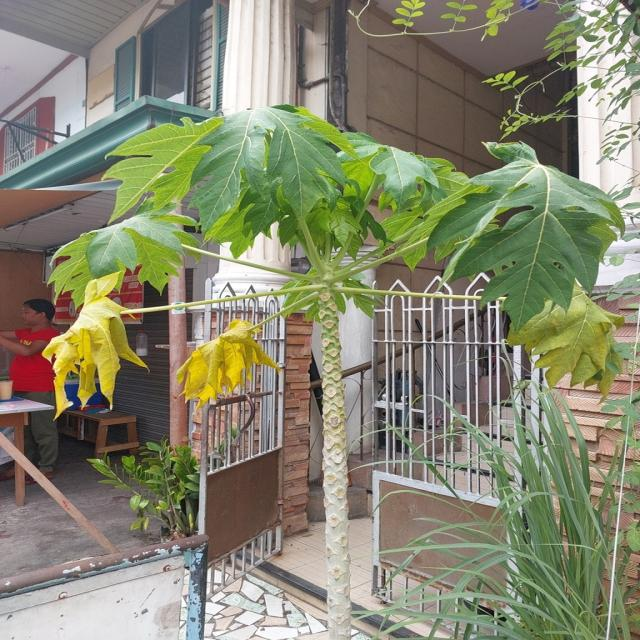Papaya-Tree: (76, 108, 588, 640)
